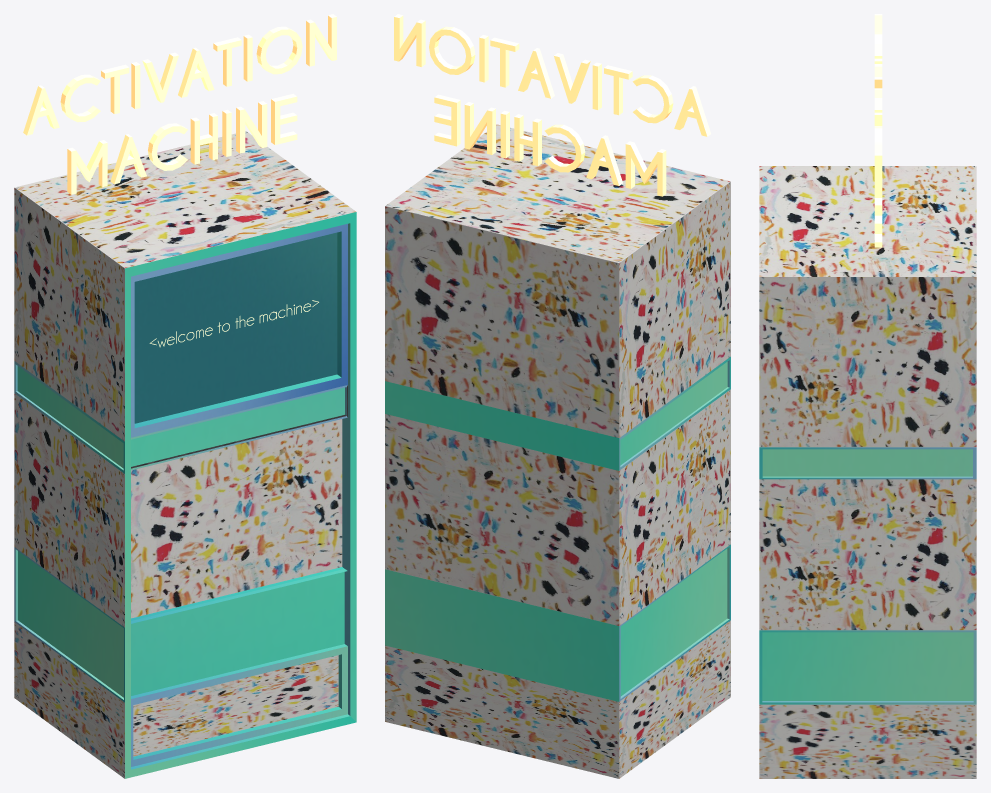
File: machine2_v4.gltf
3 views of the same model, side by side, from view 1: azimuth 30°, elevation 25°; view 2: azimuth 150°, elevation 25°; view 3: azimuth 270°, elevation 25° (orthographic). The views are drawn at different scales.
Parts seen in each view (by area): view 1: machine, activation, welcome; view 2: machine, activation; view 3: machine, activation.
Part boxes in pixels (box(x1,y1,x2,y2)): machine: box(14, 131, 356, 778); activation: box(23, 14, 336, 194); welcome: box(149, 300, 318, 347); machine: box(385, 124, 730, 778); activation: box(394, 14, 710, 196); machine: box(759, 166, 976, 778); activation: box(874, 14, 882, 247).
Size of what is drawn, in the model's own units: 1.92 by 3.86 by 1.18.
Materials: 4 (3 with a texture image).
